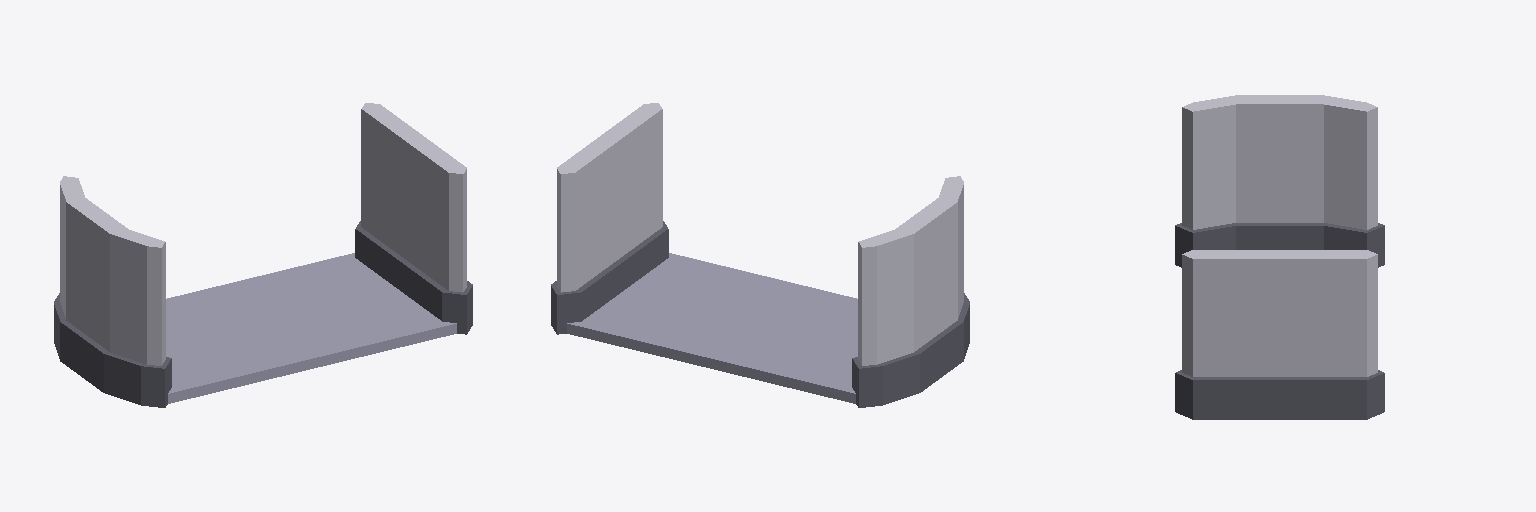
Rendered from hallway_short_04.obj.
3 views of the same model, side by side, from view 1: azimuth 30°, elevation 25°; view 2: azimuth 150°, elevation 25°; view 3: azimuth 270°, elevation 25° (orthographic).
Visible parts, largest first — view 1: floor_05_99, wall_03_101, wall_01_102; view 2: floor_05_99, wall_03_101, wall_01_102; view 3: wall_01_102, wall_03_101.
Part boxes in pixels (left/top/right/bottom): floor_05_99: left=166, top=253, right=456, bottom=403; wall_03_101: left=54, top=176, right=171, bottom=407; wall_01_102: left=355, top=103, right=472, bottom=334; floor_05_99: left=567, top=253, right=857, bottom=403; wall_03_101: left=852, top=176, right=969, bottom=407; wall_01_102: left=551, top=103, right=668, bottom=334; wall_01_102: left=1175, top=250, right=1384, bottom=419; wall_03_101: left=1175, top=95, right=1384, bottom=267.
Bounding box in the file's own units: 2.31 × 1 × 1.21.